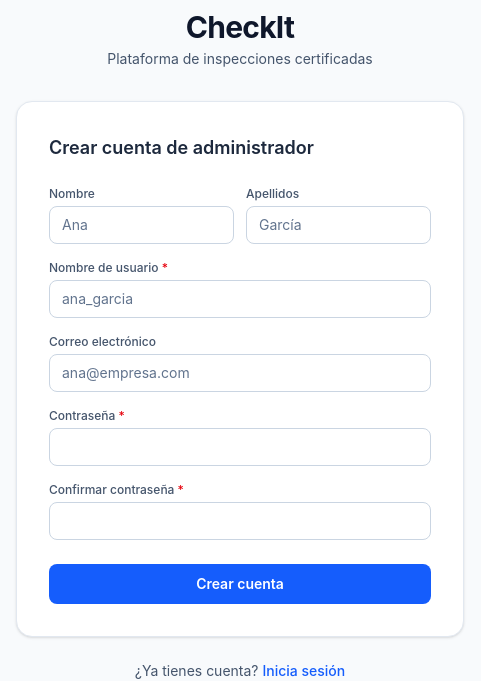
Scenario: Alta por invitación (B3) › sin red al enviar: avisa y enfoca el aviso
This screenshot has width=481, height=681.
Type "ana" into the field labelled "Nombre de usuario *" at {"x": 240, "y": 299}, box left=49, top=280, right=431, bottom=318
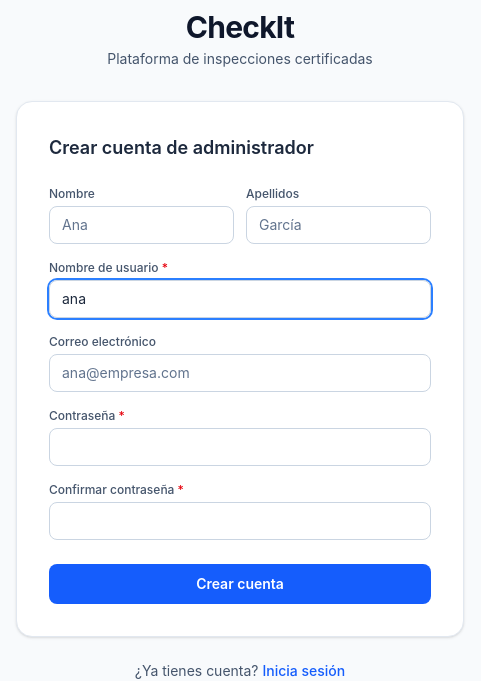
Type "SecurePass123!" into the password field labelled "Contraseña *" at {"x": 240, "y": 447}, box left=49, top=428, right=431, bottom=466
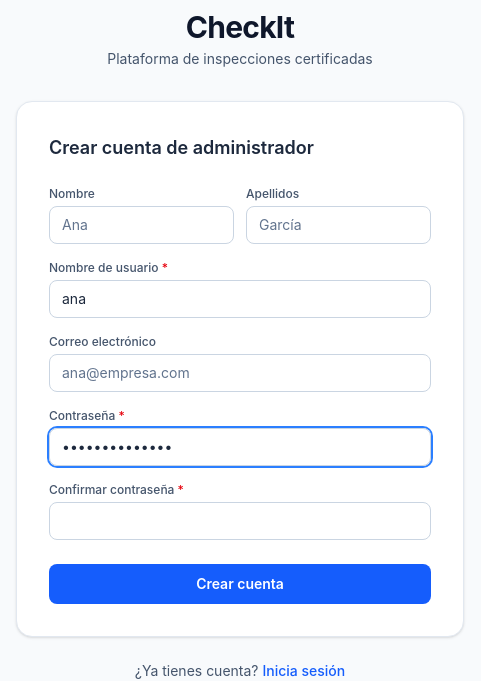
Type "SecurePass123!" into the password field labelled "Confirmar contraseña *" at {"x": 240, "y": 521}, box left=49, top=502, right=431, bottom=540
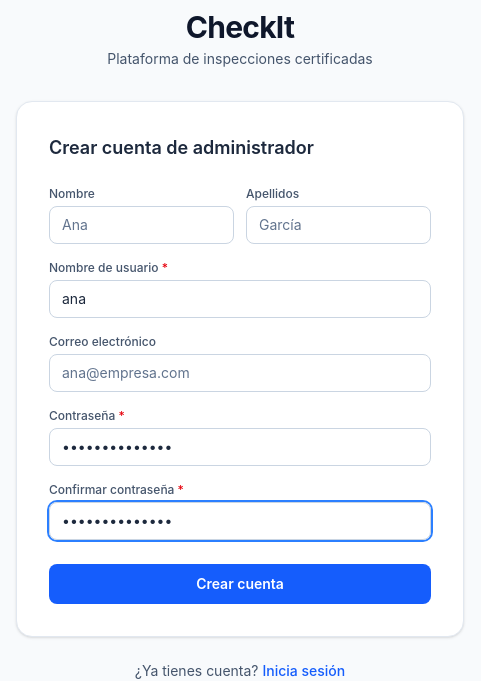
Click the button "Crear cuenta" at {"x": 240, "y": 584}, box left=49, top=564, right=431, bottom=604
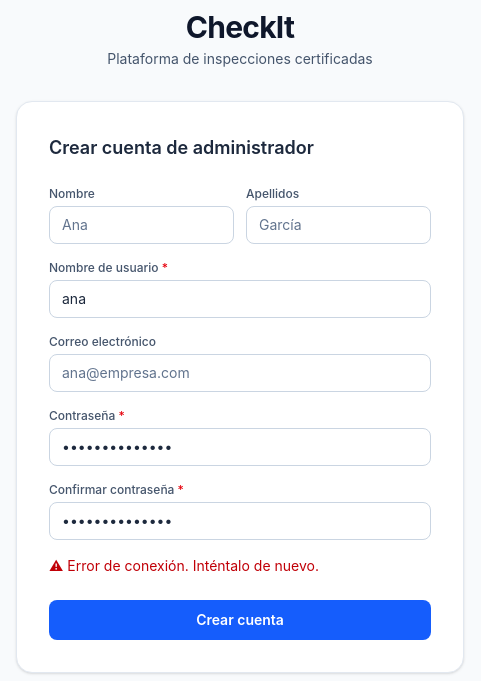
expect the message shows "Error de conexión": met, box left=67, top=557, right=319, bottom=574
